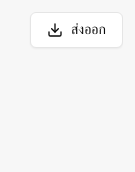
Test: ExportButton › keeps the API error message visible and re-enables the button
The width and height of the screenshot is (135, 172).
Click the button "ส่งออก": x=76, y=30 [30, 12, 123, 48]
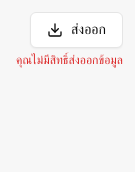
Now the message reads "คุณไม่มีสิทธิ์ส่งออกข้อมูล", box [16, 53, 123, 67]
